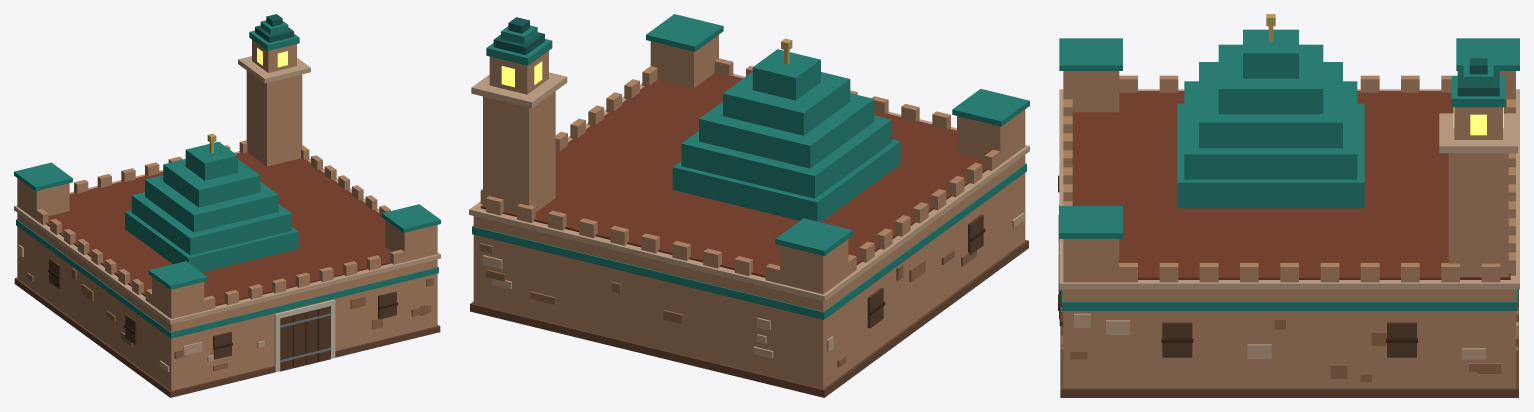
Rendered from dd_solid_big.glb.
3 renders of one model, left to right at view 1: azimuth 30°, elevation 25°; view 2: azimuth 150°, elevation 25°; view 3: azimuth 270°, elevation 25°, orthographic. The views are drawn at different scales.
Parts seen in each view (by area): view 1: DUBG_dd_solid_big; view 2: DUBG_dd_solid_big; view 3: DUBG_dd_solid_big.
Part boxes in pixels (x1=…): DUBG_dd_solid_big: x1=14, y1=14, x2=440, y2=397; DUBG_dd_solid_big: x1=469, y1=14, x2=1029, y2=397; DUBG_dd_solid_big: x1=1058, y1=14, x2=1519, y2=397.
Bounding box in the file's own units: 24.74 × 18.8 × 24.67.
